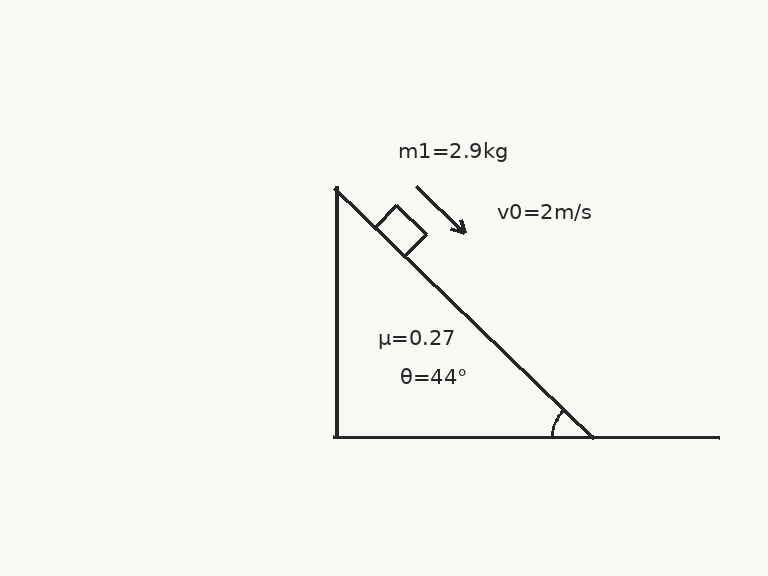block: (372, 203, 428, 258)
ramp: (333, 187, 594, 439)
